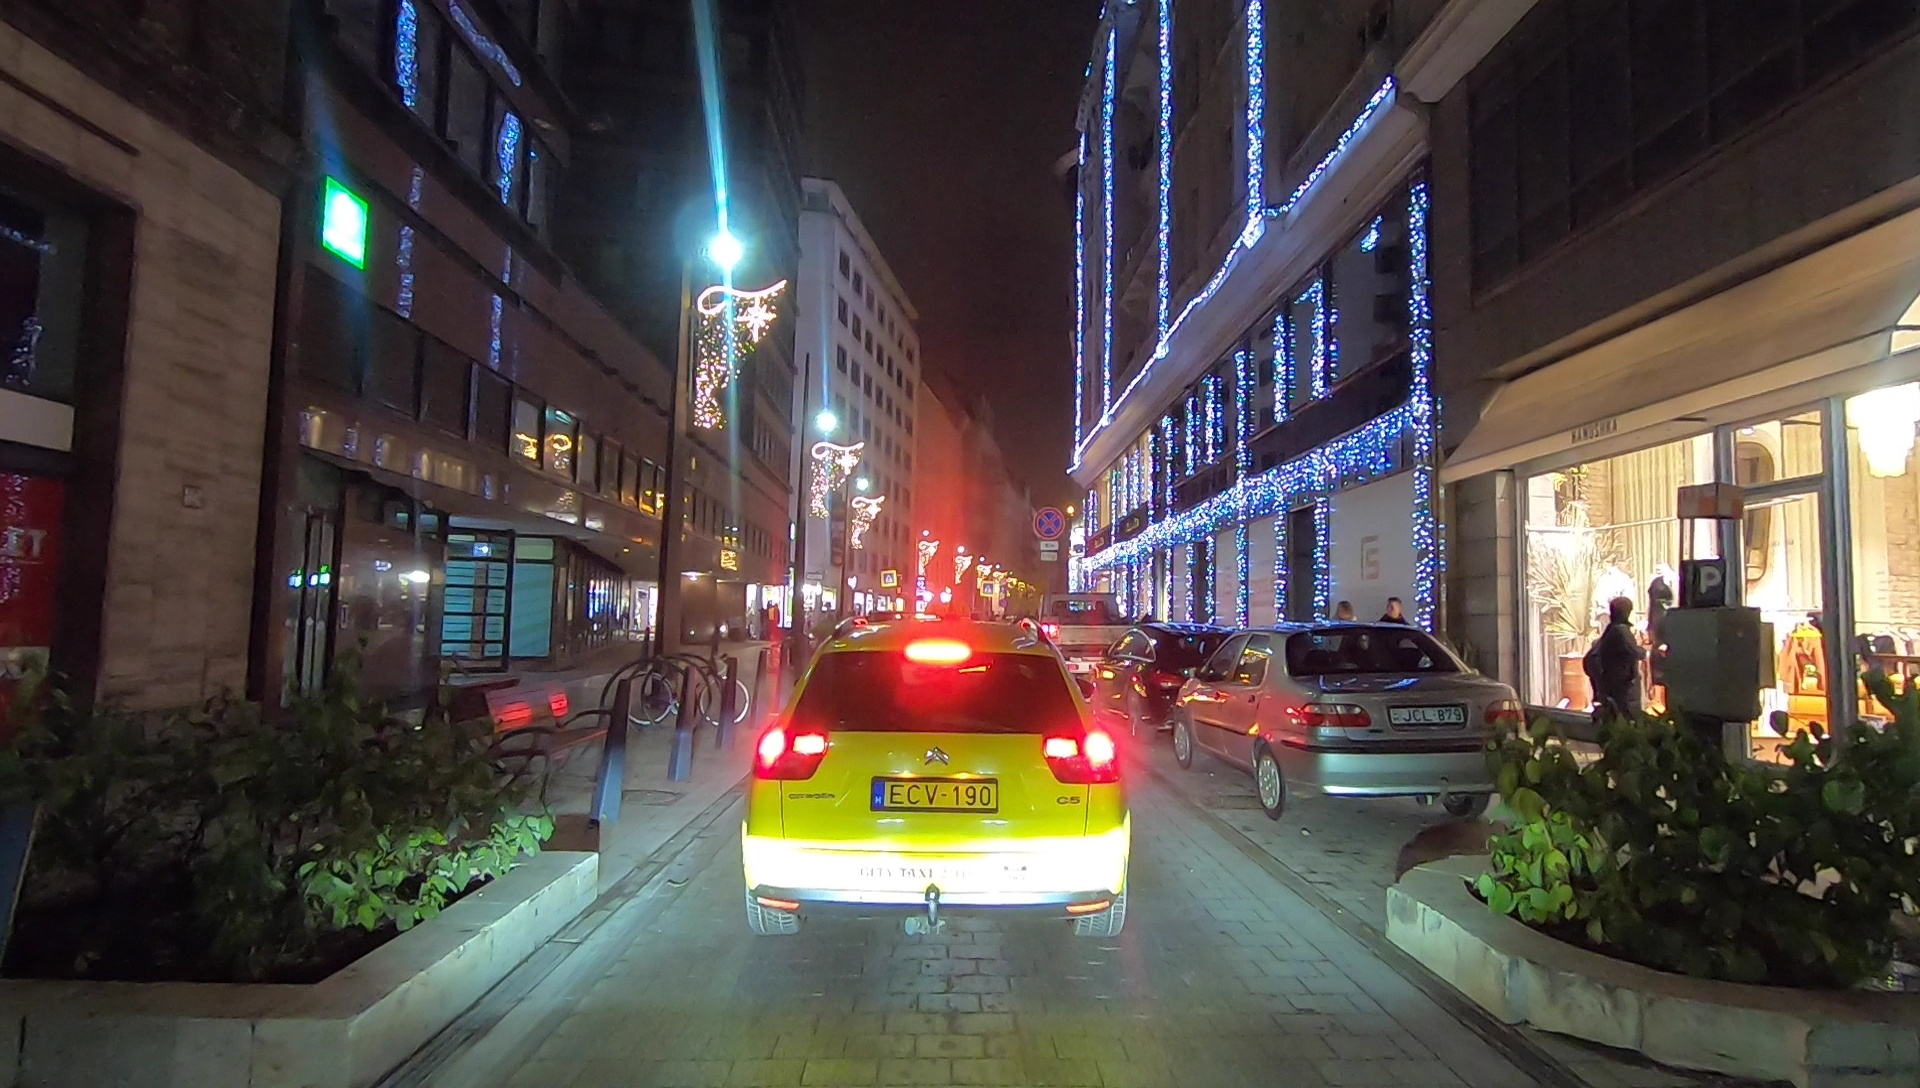person: (1586, 599, 1641, 763)
